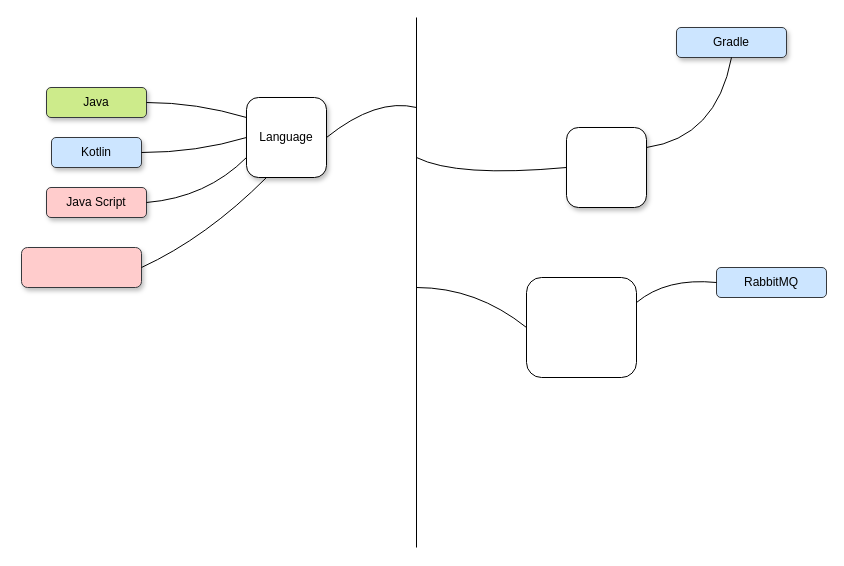
This 844x566 diagram has some shape labels left out. Each missing label, with the centre of its shape:
"Build Tool" belongs at point 607,168.
"Groovy" belongs at point 82,268.
"Message broker" belongs at point 581,327.
